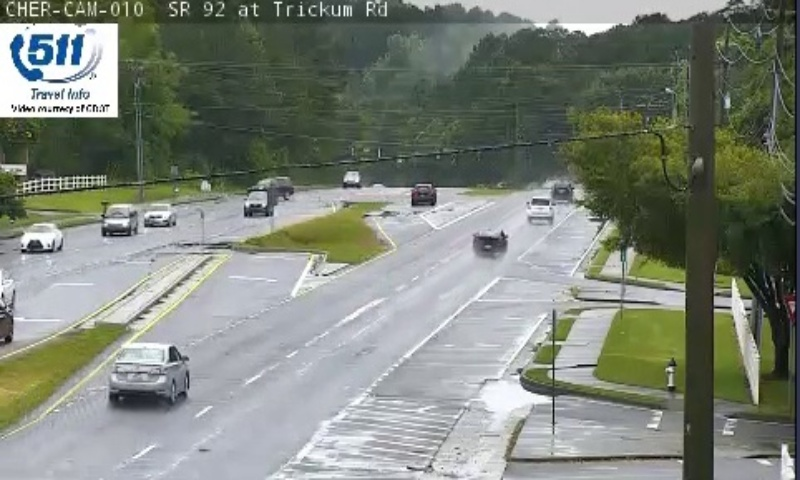car: (109, 342, 189, 397), (472, 229, 508, 259), (526, 196, 554, 221)
